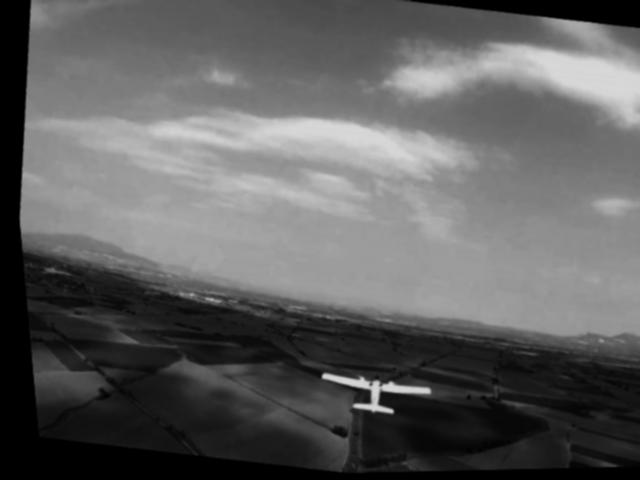hedef: (303, 360, 432, 435)
